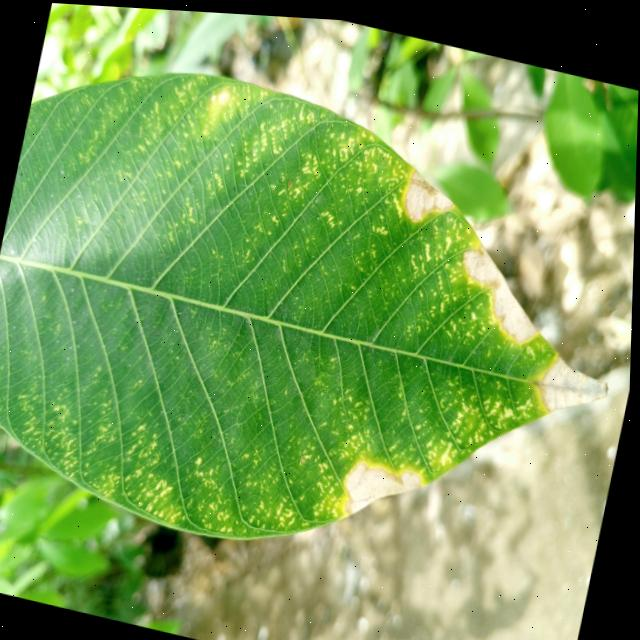Leaf-Blight: (449, 232, 555, 339), (341, 449, 426, 523), (534, 343, 615, 418), (402, 161, 460, 223)
